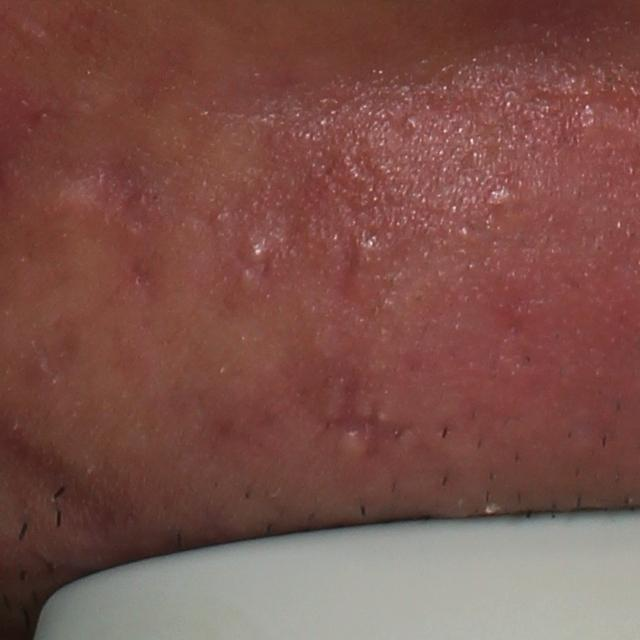atrophic_scar: (322, 372, 410, 459), (336, 233, 366, 308)
hypertrophic_scar: (334, 429, 370, 461)
